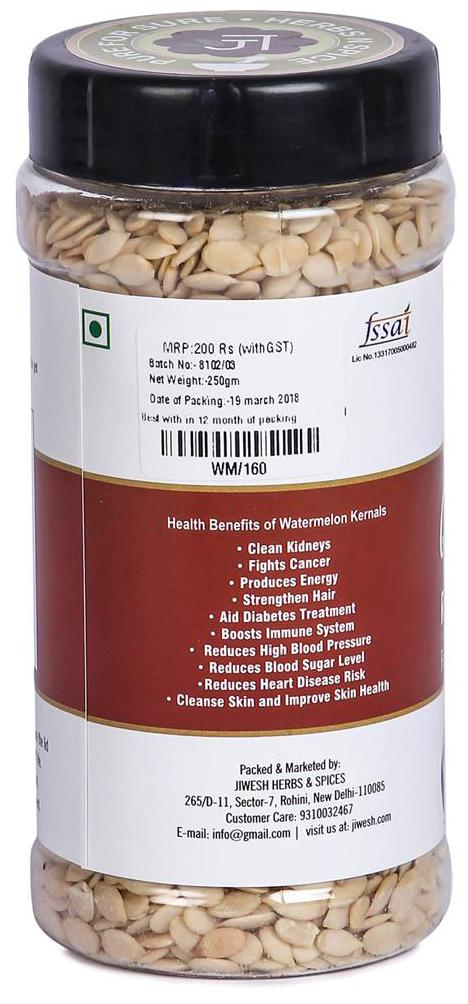fssai: (361, 307, 414, 344)
